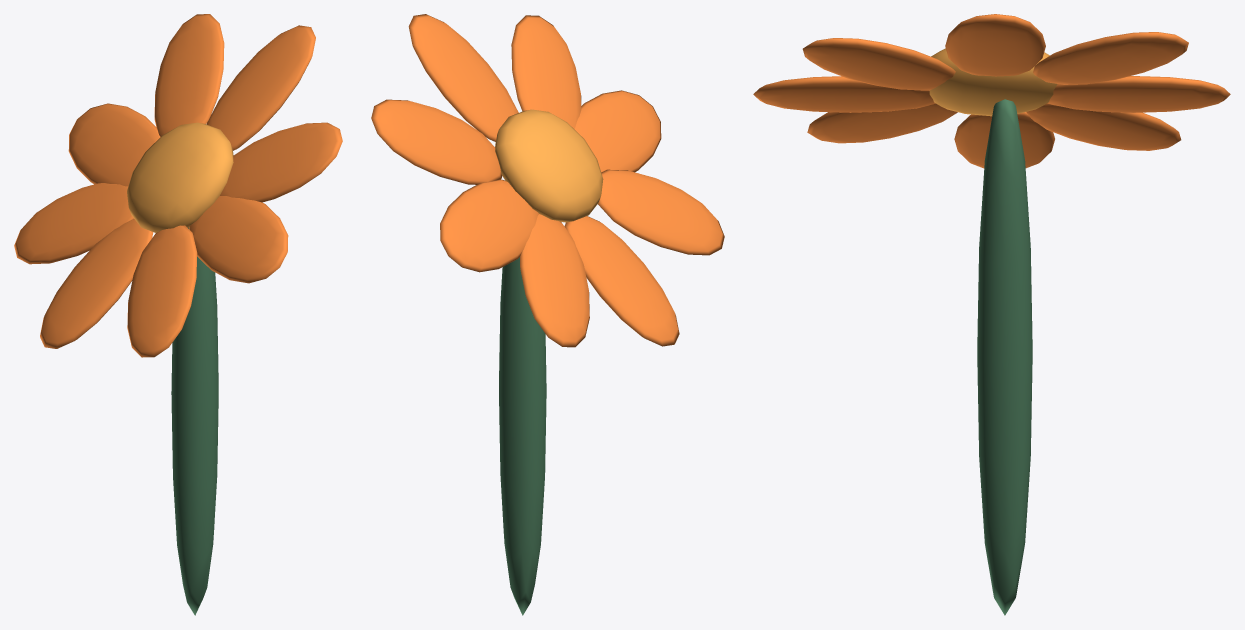
Rendered from flower0.fbx.
3 views of the same model, side by side, from view 1: azimuth 30°, elevation 25°; view 2: azimuth 150°, elevation 25°; view 3: azimuth 270°, elevation 25° (orthographic). The views are drawn at different scales.
Visible parts, largest first — view 1: Flower.003; view 2: Flower.003; view 3: Flower.003.
Boxes of the visible parts, left/top/right/bottom form: Flower.003: left=14, top=14, right=342, bottom=615; Flower.003: left=371, top=14, right=724, bottom=615; Flower.003: left=753, top=14, right=1230, bottom=615.
Bounding box in the file's own units: 56.73 × 117 × 75.9.
